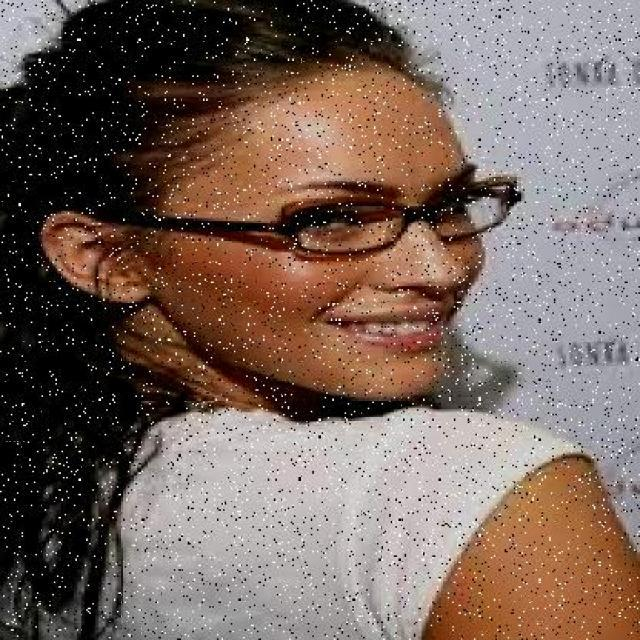glasses: (270, 182, 524, 256)
